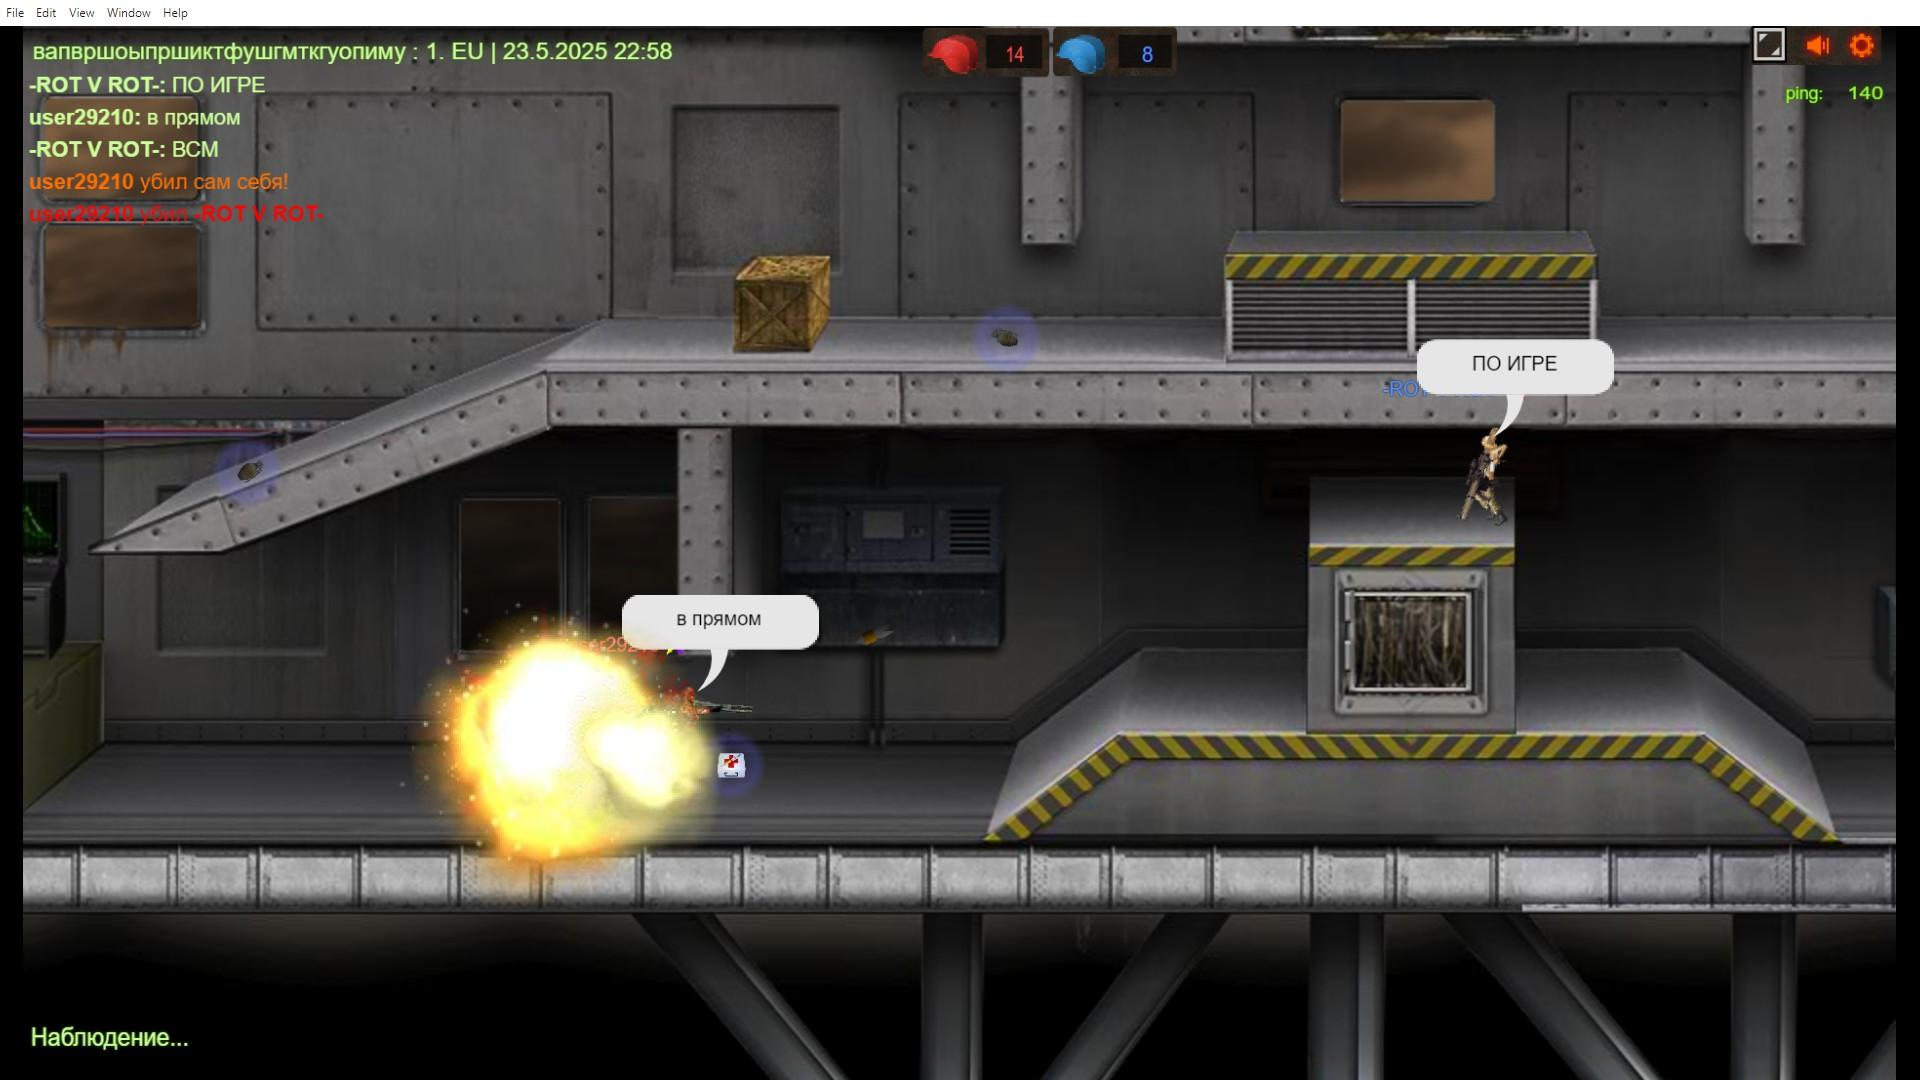enemy: (1457, 424, 1514, 534), (670, 684, 706, 783)
